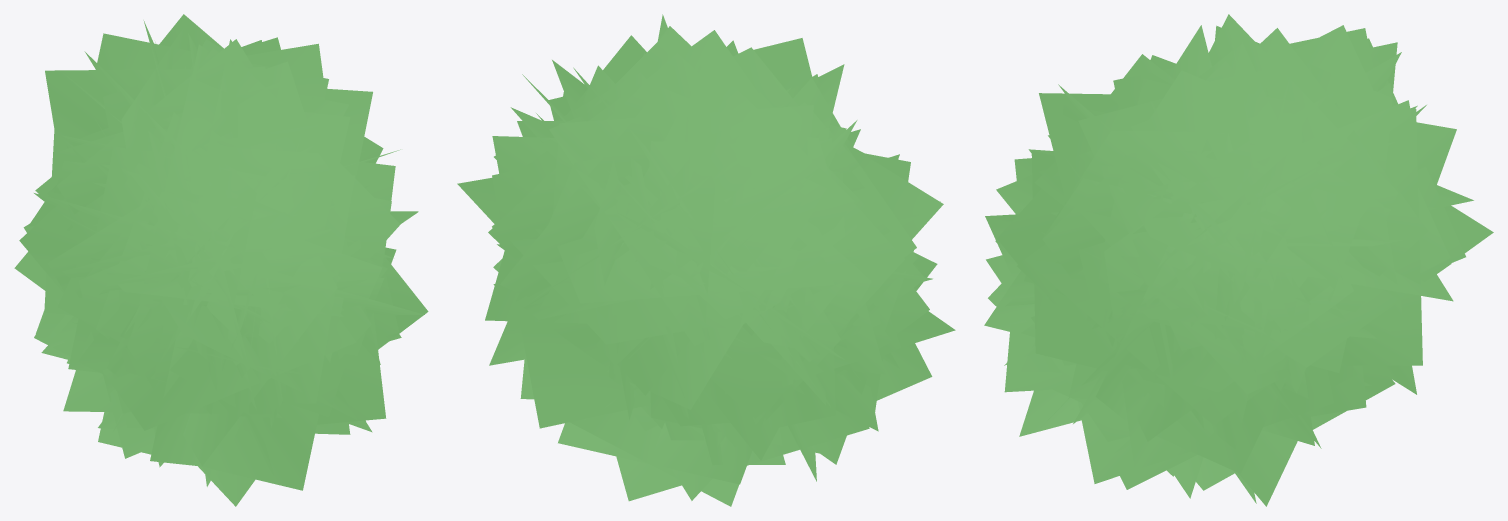
File: leaf_4.glb
The picture shows the model from 3 angles, left to right: view 1: azimuth 30°, elevation 25°; view 2: azimuth 150°, elevation 25°; view 3: azimuth 270°, elevation 25°; orthographic projection. The views are drawn at different scales.
Visible parts, largest first — view 1: Leaf_05_LOD1; view 2: Leaf_05_LOD1; view 3: Leaf_05_LOD1.
Part boxes in pixels (x1,y1,x2,y2): Leaf_05_LOD1: (14, 14, 428, 506); Leaf_05_LOD1: (457, 14, 955, 506); Leaf_05_LOD1: (984, 14, 1493, 506).
Size of the model in its own units: 0.9612 by 1.1 by 1.06.
